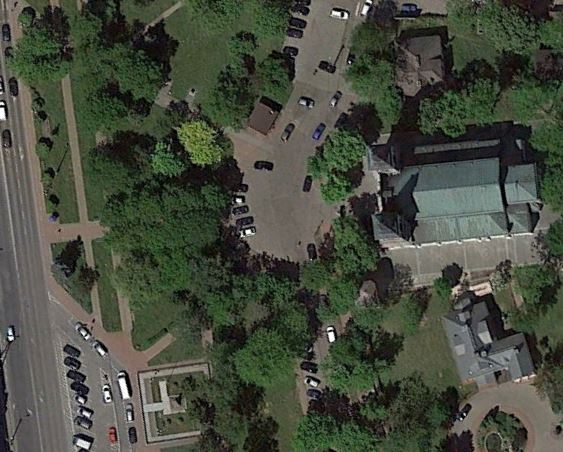church: (358, 130, 551, 256)
family house: (439, 280, 546, 396), (393, 32, 454, 101)
